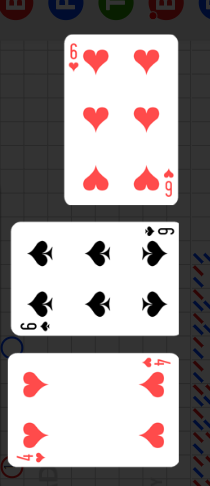4H: (14, 451, 46, 464)
6H: (67, 42, 80, 74)
6S: (142, 226, 175, 238)
